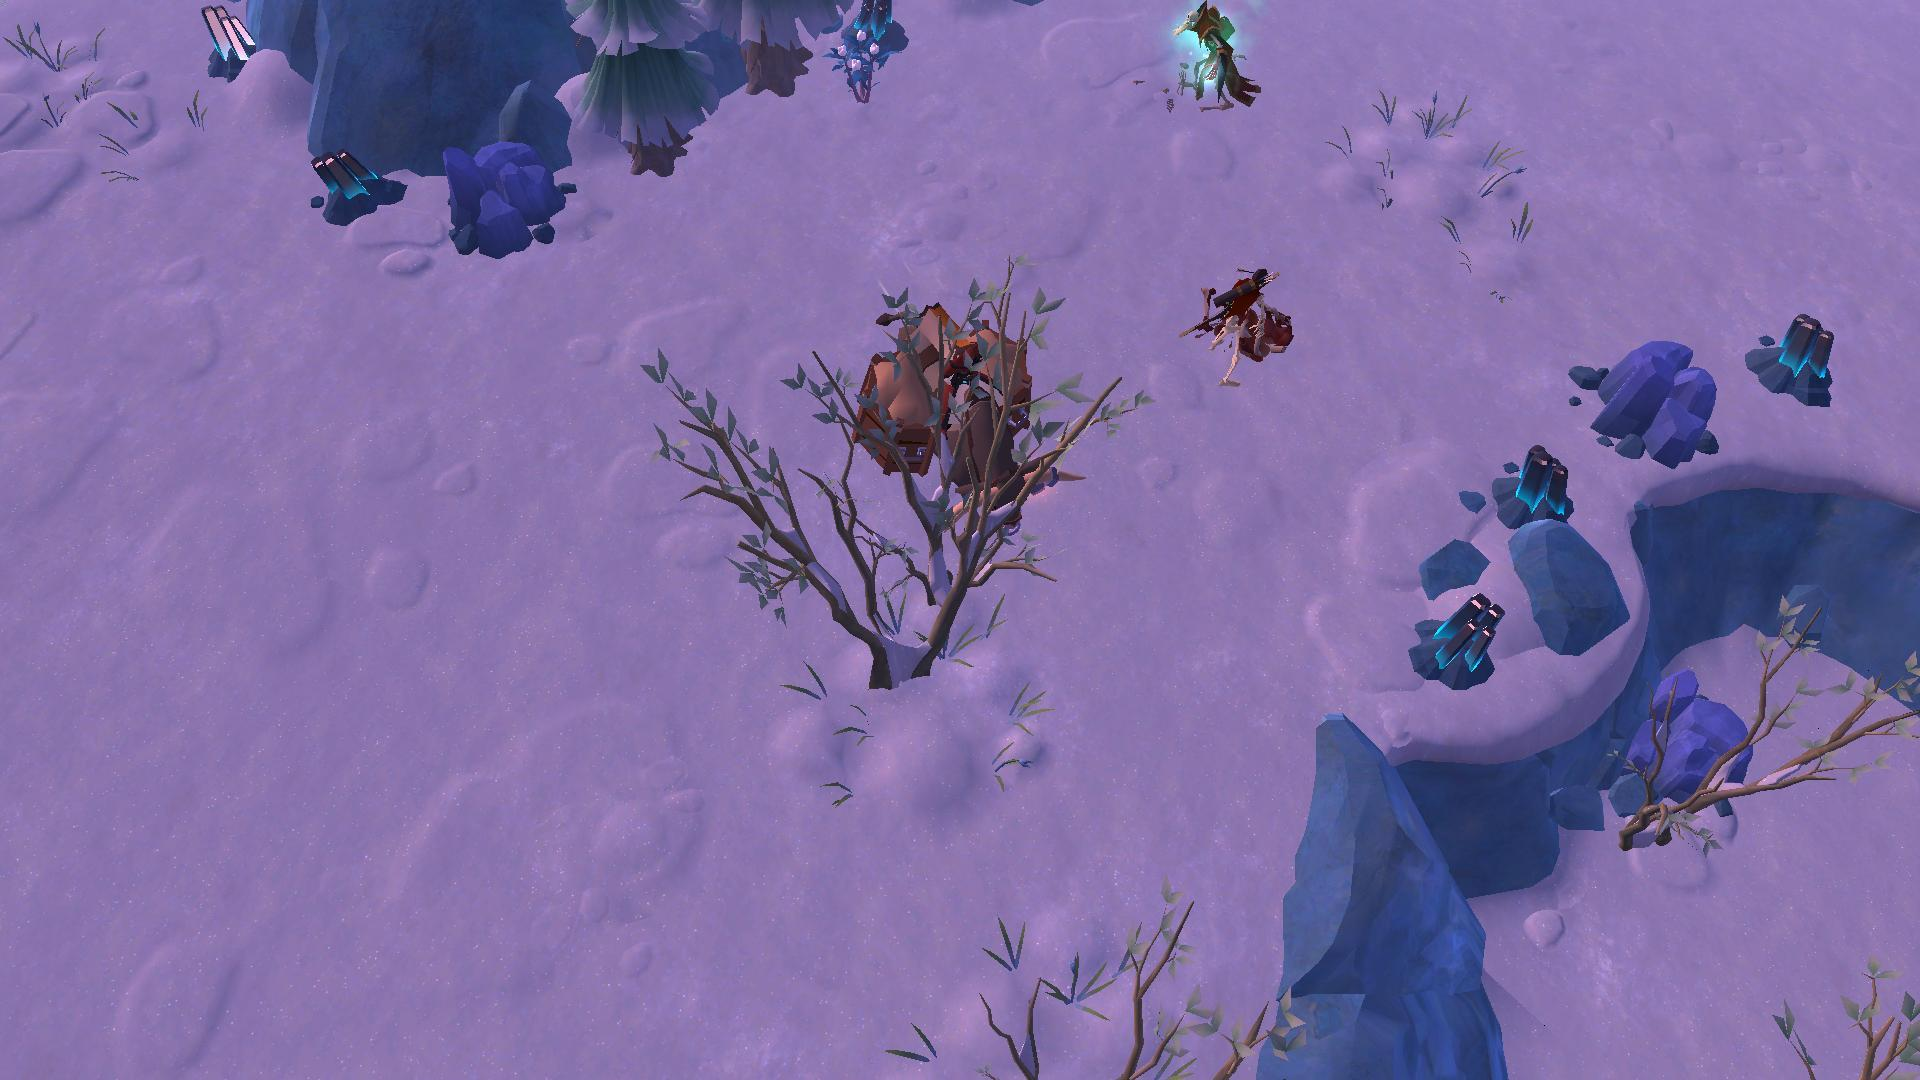enemy_factionUndead: (1168, 0, 1261, 109), (1193, 261, 1270, 378)
fiber_t4: (828, 26, 887, 115)
ore_t4: (1423, 588, 1501, 682), (1772, 302, 1838, 394), (1507, 444, 1572, 524), (305, 144, 380, 202), (198, 4, 255, 75), (857, 0, 898, 44)
rock_t4: (1621, 655, 1755, 814), (1581, 330, 1716, 471), (429, 127, 568, 251)
